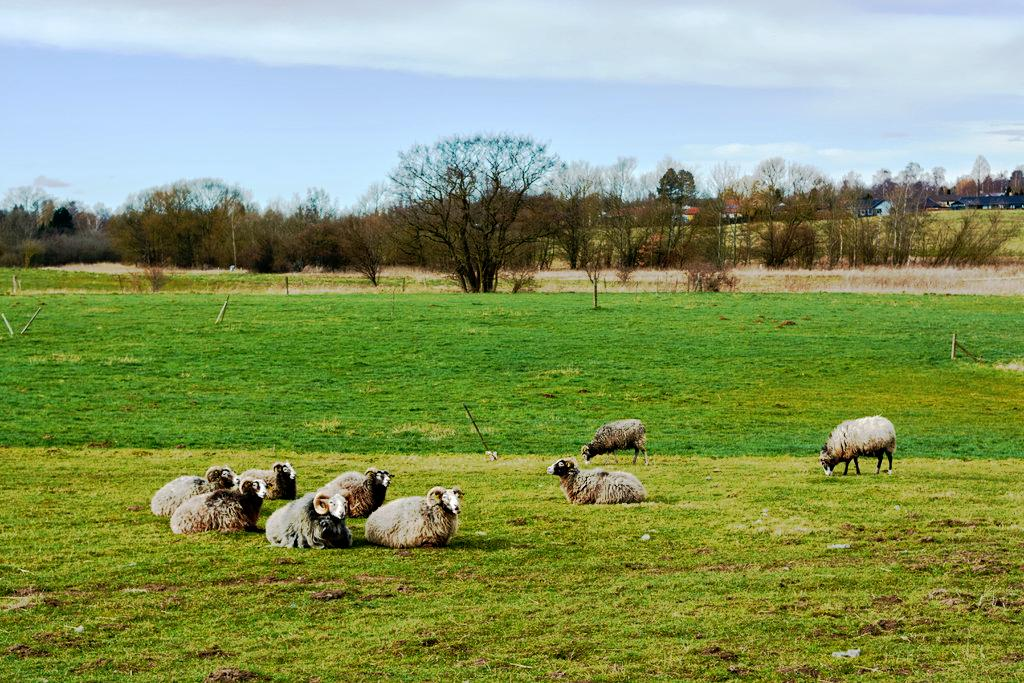Sheep: (364, 482, 466, 549), (169, 476, 268, 536), (545, 455, 651, 508), (265, 490, 353, 549), (820, 412, 897, 473), (314, 466, 395, 520), (578, 417, 650, 466), (234, 460, 297, 499)
